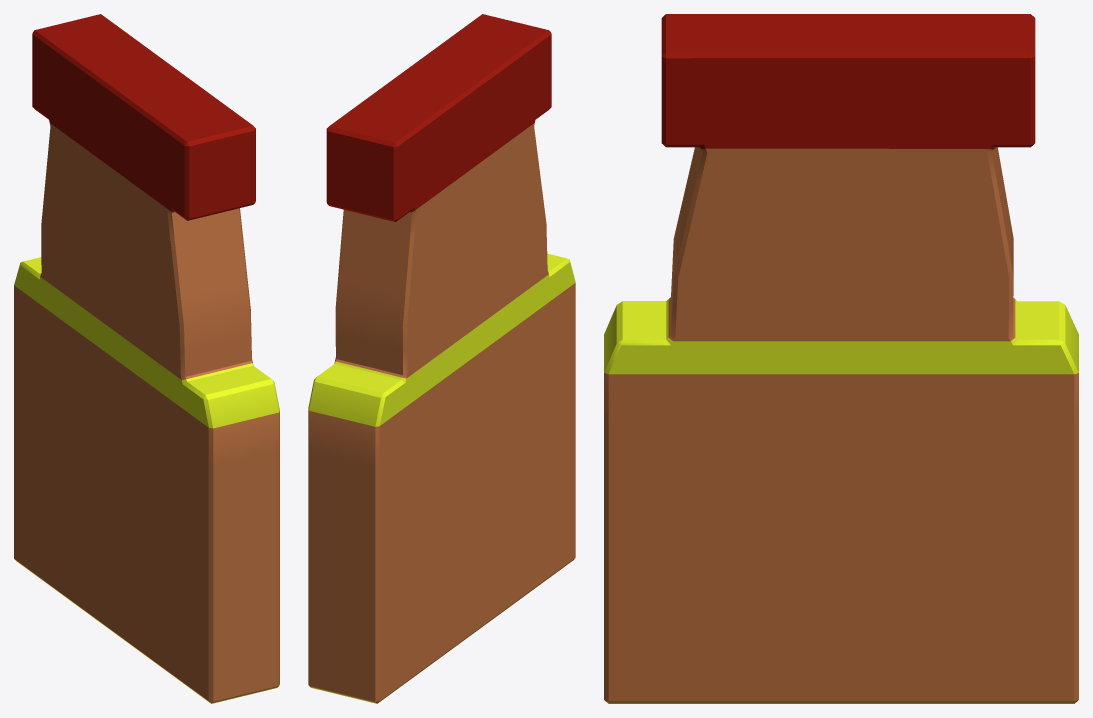
Rendered from ExteriorEndStraight.fbx.
3 views of the same model, side by side, from view 1: azimuth 30°, elevation 25°; view 2: azimuth 150°, elevation 25°; view 3: azimuth 270°, elevation 25° (orthographic). The views are drawn at different scales.
Visible parts, largest first — view 1: (Mapped) Exterior end straight; view 2: (Mapped) Exterior end straight; view 3: (Mapped) Exterior end straight.
Part boxes in pixels (box(x1,y1,x2,y2)): (Mapped) Exterior end straight: box(14, 14, 279, 703); (Mapped) Exterior end straight: box(308, 14, 575, 703); (Mapped) Exterior end straight: box(604, 14, 1078, 703).
Bounding box in the file's own units: 1.11 × 8.11 × 5.36.
